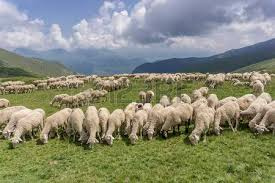sheep: (10, 108, 45, 146), (41, 104, 72, 146), (188, 102, 215, 143), (211, 101, 241, 136), (161, 104, 192, 135), (105, 108, 124, 144), (254, 100, 275, 132), (84, 105, 100, 146), (129, 108, 145, 144), (71, 105, 85, 146), (145, 109, 163, 140), (98, 106, 107, 144), (57, 96, 78, 108), (137, 91, 146, 103)
